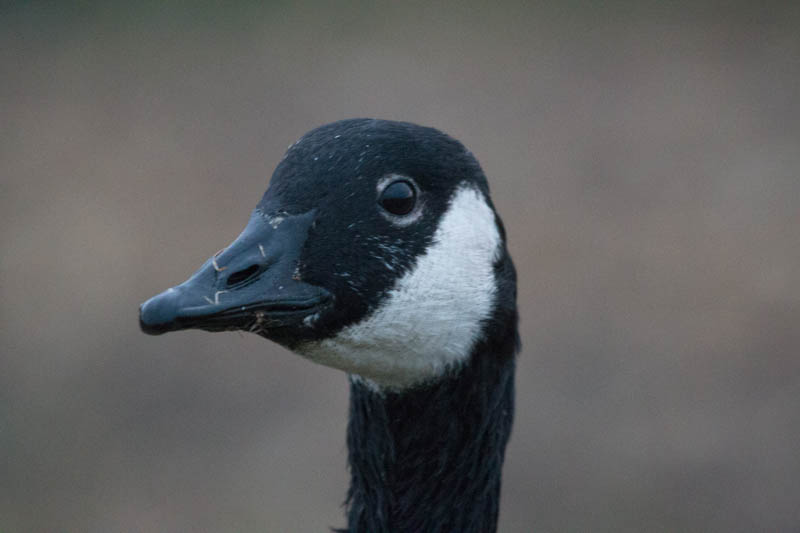goose-head: (136, 118, 518, 394)
